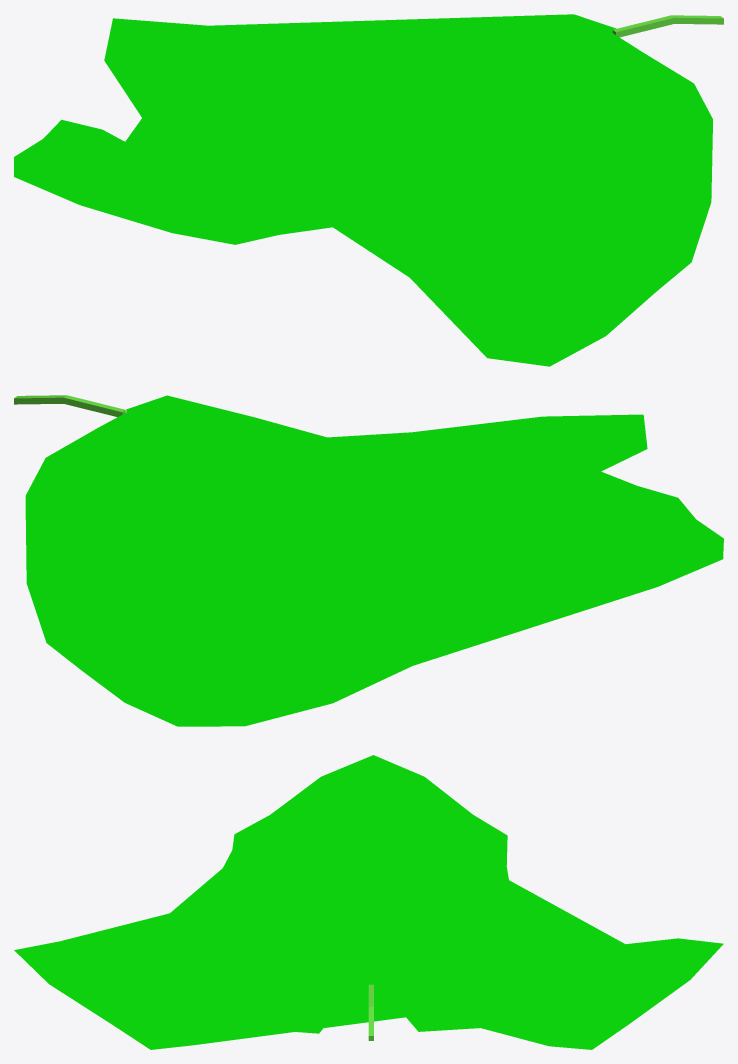
File: leaf4 vol.2.fbx
3 renders of one model, top to bottom at view 1: azimuth 30°, elevation 25°; view 2: azimuth 150°, elevation 25°; view 3: azimuth 270°, elevation 25°, orthographic. The views are drawn at different scales.
Parts seen in each view (by area): view 1: 円, Cube; view 2: 円, Cube; view 3: 円.
Boxes of the visible parts, bbox=[...] form: 円: bbox=[14, 14, 712, 366]; Cube: bbox=[612, 15, 723, 37]; 円: bbox=[25, 395, 723, 726]; Cube: bbox=[14, 395, 125, 416]; 円: bbox=[14, 755, 723, 1049].
Size of the model in its own units: 242 by 39.15 by 268.
